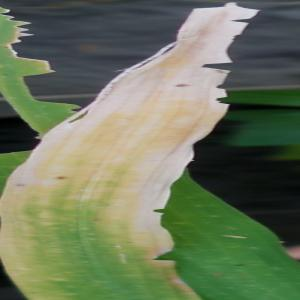2 BacterialBlight: (1, 99, 167, 300)
